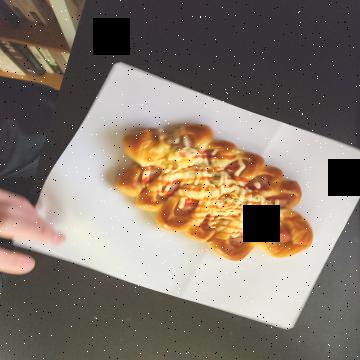pizza_bread: (115, 50, 255, 248)
